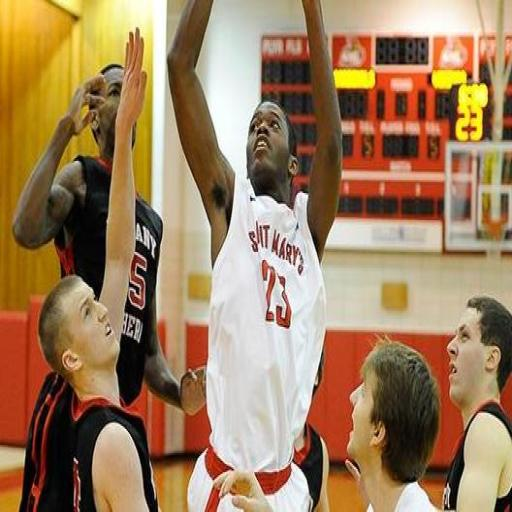person: (168, 0, 342, 511), (38, 29, 158, 511), (117, 197, 204, 413), (348, 340, 439, 511), (348, 342, 439, 511), (443, 297, 511, 511), (294, 422, 329, 511)
